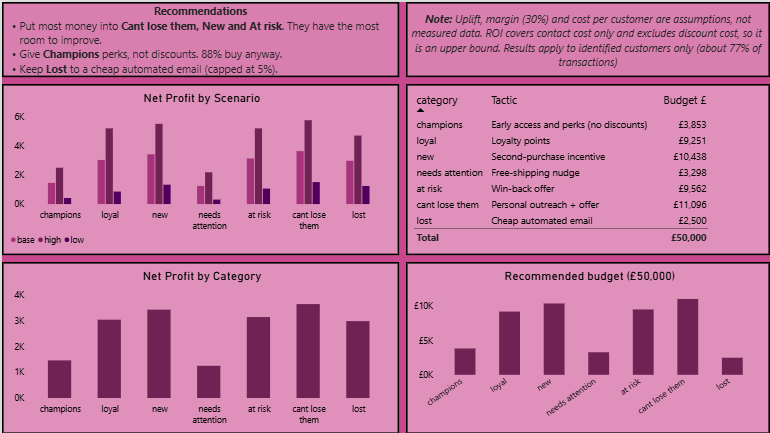

This screenshot's page, from the dashboard's own definition file:
{"tool":"powerbi","page":{"name":"ROI and Budget","canvas":[1920,1080],"ordinal":2},"visuals":[{"type":"columnChart","title":"Net Profit by Category","fields":{"Category":["segments.category"],"Y":["Sum(category_wise_roi.net_profit)"]},"box":[0,650,992.5,430],"z":0},{"type":"columnChart","title":"Recommended budget (£50,000)","fields":{"Category":["segments.category"],"Y":["Sum(budget_split.final_share_amount)"]},"box":[1010,650,910,430],"z":1000},{"type":"clusteredColumnChart","title":"Net Profit by Scenario","fields":{"Category":["segments.category"],"Y":["Sum(sensitivity_results.net_profit)"],"Series":["sensitivity_results.scenario"]},"box":[0,205,992.5,427.5],"z":2000},{"type":"textbox","box":[0,0,992.5,187.5],"z":3000},{"type":"tableEx","fields":{"Values":["segments.category","segments.Tactic","Sum(budget_split.final_share_amount)"]},"box":[1010,205,910,427.5],"z":4001},{"type":"textbox","box":[1010,0,910,188],"z":4002}]}

Visuals, with their boxes in screenshot pixels (x1, y1, x2, y2), scaled from the page's 1920x1080 canvas onto the 770x433 screenshot:
"Net Profit by Category" columnChart: detection(0, 261, 398, 432)
"Recommended budget (£50,000)" columnChart: detection(405, 261, 769, 432)
"Net Profit by Scenario" clusteredColumnChart: detection(0, 82, 398, 254)
textbox: detection(0, 0, 398, 75)
tableEx - segments.category x segments.Tactic: detection(405, 82, 769, 254)
textbox: detection(405, 0, 769, 75)
